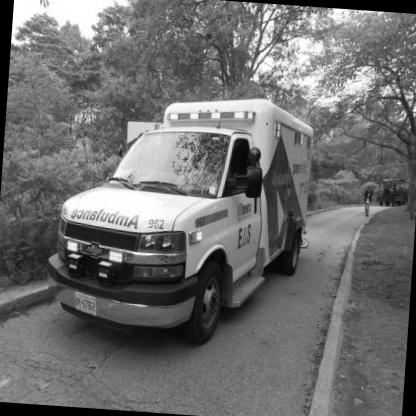ambulance: (36, 43, 357, 386)
